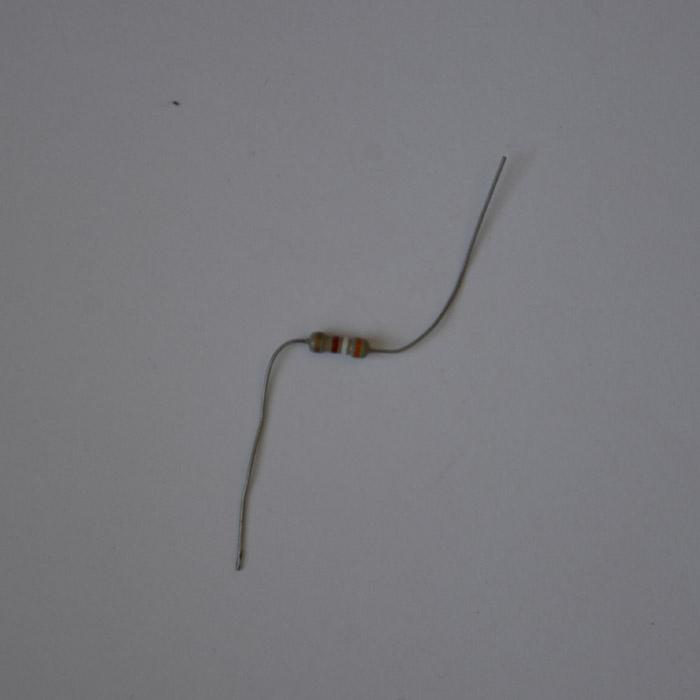resistor: (306, 330, 368, 358)
